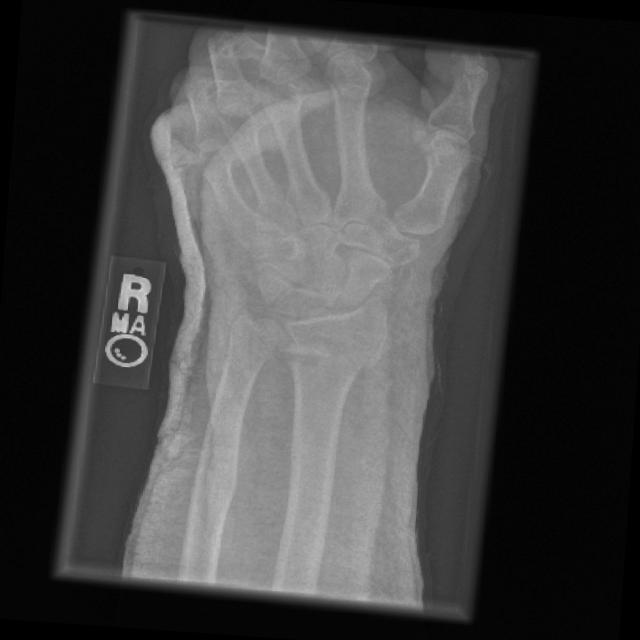fingers positive: (224, 314, 428, 398)
